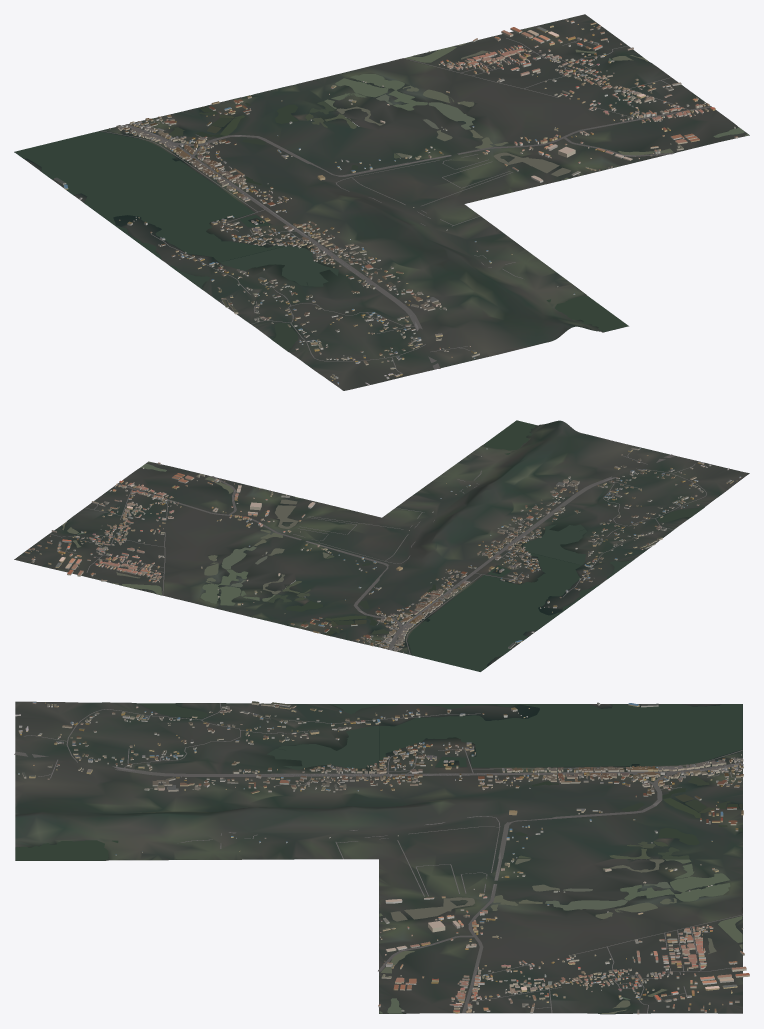
The picture shows the model from 3 angles, top to bottom: view 1: azimuth 30°, elevation 25°; view 2: azimuth 150°, elevation 25°; view 3: azimuth 270°, elevation 25°; orthographic projection. The views are drawn at different scales.
Parts seen in each view (by area): view 1: ground, water, buildings, roads; view 2: ground, water, buildings, roads; view 3: ground, water, buildings, roads.
Part boxes in pixels (x1,y1,x2,y2): ground: (14, 14, 749, 390); water: (14, 43, 748, 350); buildings: (54, 19, 738, 385); roads: (100, 38, 711, 373); ground: (14, 420, 749, 671); water: (62, 420, 703, 671); buildings: (25, 447, 741, 652); roads: (49, 453, 706, 654); ground: (15, 701, 742, 1014); water: (15, 703, 742, 1013); buildings: (15, 701, 749, 1014); roads: (14, 703, 743, 1013).
Size of the model in its own units: 2814 by 63.18 by 2836.
